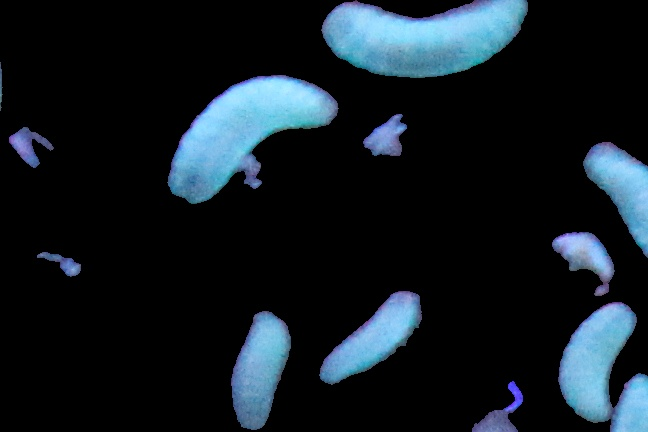larvae: (167, 72, 342, 199), (320, 1, 534, 78), (320, 289, 421, 387), (557, 301, 638, 423), (230, 309, 294, 431), (584, 141, 648, 257), (610, 367, 648, 432)
